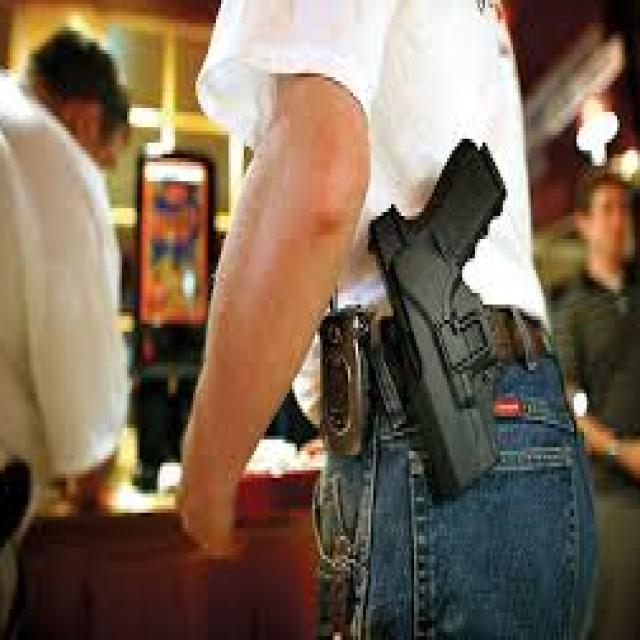gun: (361, 126, 512, 516)
